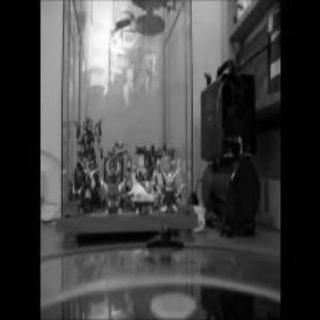other: (84, 22, 130, 84)
